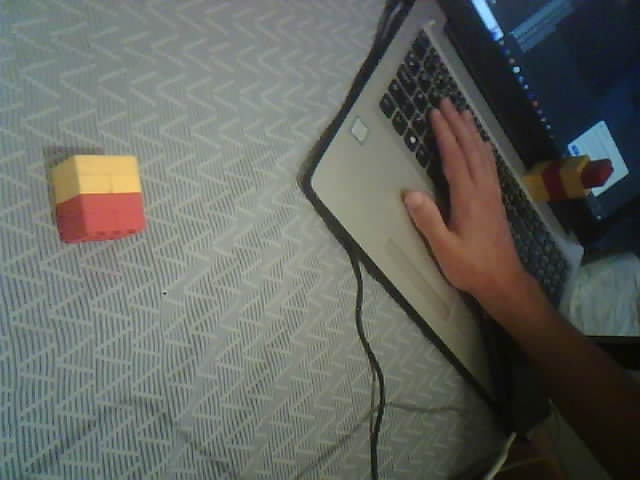lego: (49, 153, 148, 244)
